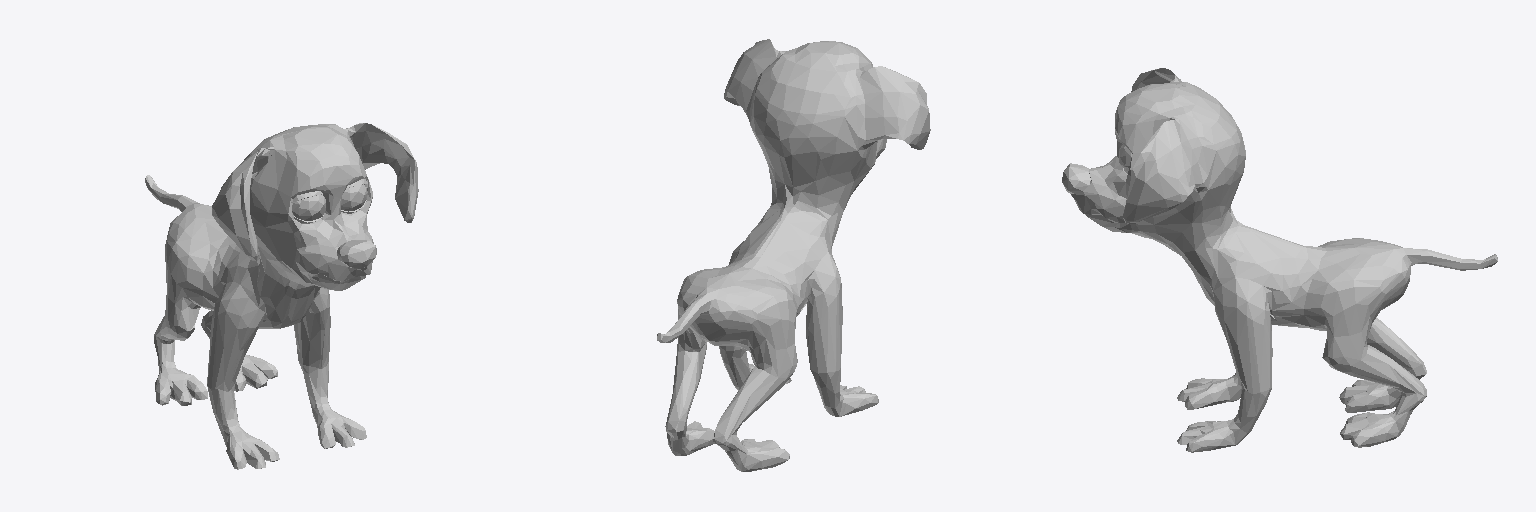
Rendered from pup.obj.
3 views of the same model, side by side, from view 1: azimuth 30°, elevation 25°; view 2: azimuth 150°, elevation 25°; view 3: azimuth 270°, elevation 25° (orthographic).
Visible parts, largest first — view 1: Eyes_Sphere.001; view 2: Eyes_Sphere.001; view 3: Eyes_Sphere.001.
Boxes of the visible parts, <box> form: Eyes_Sphere.001: <box>145,123,418,469</box>; Eyes_Sphere.001: <box>657,39,930,471</box>; Eyes_Sphere.001: <box>1062,68,1497,452</box>.
Size of the model in its own units: 2.32 by 3.87 by 4.62.